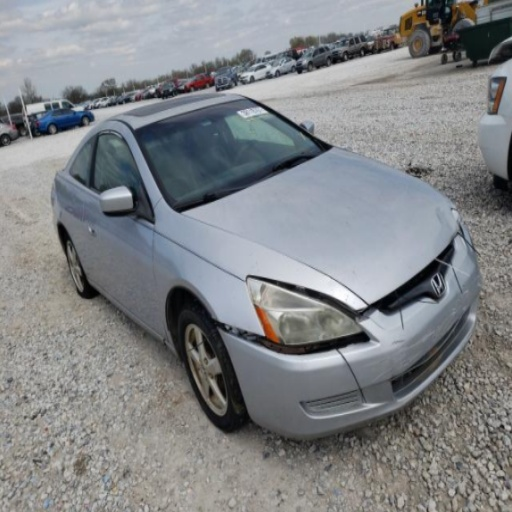dent: (439, 206, 458, 249)
rust: (430, 343, 447, 372)
scratch: (391, 339, 405, 346)
